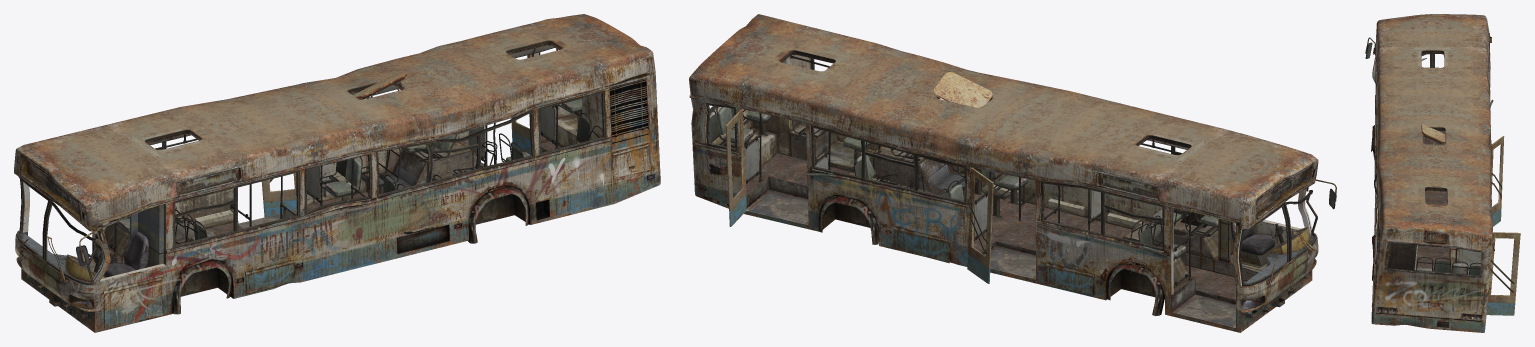
The picture shows the model from 3 angles, left to right: view 1: azimuth 30°, elevation 25°; view 2: azimuth 150°, elevation 25°; view 3: azimuth 270°, elevation 25°; orthographic projection. The views are drawn at different scales.
Parts seen in each view (by area): view 1: mesh_0_veh\bus_01_0, mesh_1_veh\bus_02_0, mesh_3_veh\bus_04_0, mesh_4_veh\bus_05_0, mesh_2_veh\bus_03_0, mesh_5_metal\metal_tile_0; view 2: mesh_0_veh\bus_01_0, mesh_1_veh\bus_02_0, mesh_2_veh\bus_03_0, mesh_3_veh\bus_04_0, mesh_4_veh\bus_05_0, mesh_5_metal\metal_tile_0; view 3: mesh_0_veh\bus_01_0, mesh_4_veh\bus_05_0, mesh_2_veh\bus_03_0, mesh_1_veh\bus_02_0, mesh_5_metal\metal_tile_0, mesh_3_veh\bus_04_0.
Part boxes in pixels (x1,y1,x2,y2): mesh_0_veh\bus_01_0: [14, 14, 660, 332]; mesh_1_veh\bus_02_0: [76, 75, 659, 332]; mesh_3_veh\bus_04_0: [15, 45, 606, 285]; mesh_4_veh\bus_05_0: [65, 49, 602, 282]; mesh_2_veh\bus_03_0: [22, 40, 606, 284]; mesh_5_metal\metal_tile_0: [103, 141, 560, 277]; mesh_0_veh\bus_01_0: [689, 14, 1318, 332]; mesh_1_veh\bus_02_0: [689, 95, 1336, 332]; mesh_2_veh\bus_03_0: [705, 50, 1312, 327]; mesh_3_veh\bus_04_0: [705, 58, 1317, 293]; mesh_4_veh\bus_05_0: [709, 55, 1309, 287]; mesh_5_metal\metal_tile_0: [746, 153, 1246, 299]; mesh_0_veh\bus_01_0: [1371, 14, 1492, 332]; mesh_4_veh\bus_05_0: [1415, 136, 1520, 315]; mesh_2_veh\bus_03_0: [1372, 50, 1490, 270]; mesh_1_veh\bus_02_0: [1365, 33, 1494, 320]; mesh_5_metal\metal_tile_0: [1415, 131, 1449, 271]; mesh_3_veh\bus_04_0: [1374, 54, 1482, 275].
Bounding box in the file's own units: 14.71 × 3.8 × 4.37.
Materials: 7 (7 with a texture image).
